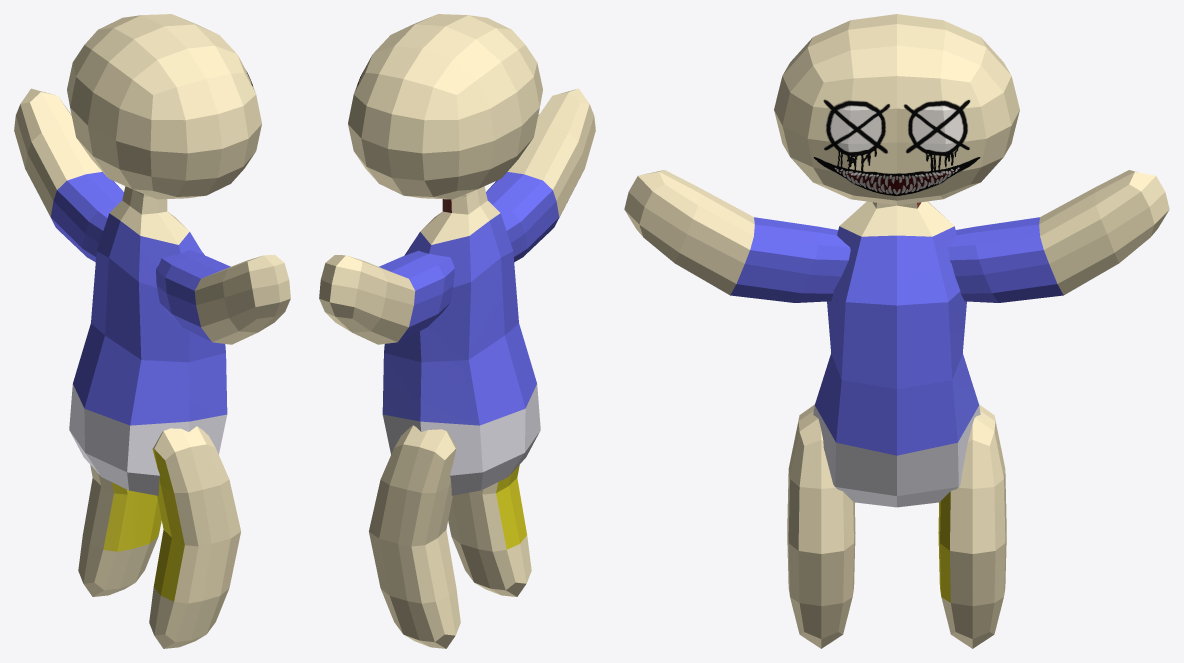
File: babynotfinish.fbx
The picture shows the model from 3 angles, left to right: view 1: azimuth 30°, elevation 25°; view 2: azimuth 150°, elevation 25°; view 3: azimuth 270°, elevation 25°; orthographic projection. The views are drawn at different scales.
Parts seen in each view (by area): view 1: Cube, Cube.001, Cube.002, Cube.004, Cube.005, Cube.003; view 2: Cube, Cube.001, Cube.003, Cube.005, Cube.004, Cube.002; view 3: Cube, Cube.001, Cube.005, Cube.004, Cube.003, Cube.002.
Boxes of the visible parts, box(x1,y1,x2,y2) form: Cube: box(69, 186, 227, 495); Cube.001: box(67, 14, 261, 199); Cube.002: box(149, 426, 240, 648); Cube.004: box(14, 88, 123, 261); Cube.005: box(156, 250, 290, 344); Cube.003: box(78, 464, 161, 596); Cube: box(382, 186, 540, 495); Cube.001: box(348, 14, 542, 199); Cube.003: box(369, 425, 460, 648); Cube.005: box(486, 88, 595, 261); Cube.004: box(319, 250, 454, 344); Cube.002: box(448, 464, 531, 596); Cube: box(813, 201, 980, 507); Cube.001: box(774, 14, 1019, 205); Cube.005: box(624, 170, 850, 302); Cube.004: box(948, 170, 1169, 302); Cube.003: box(938, 404, 1006, 648); Cube.002: box(787, 404, 855, 648).
Size of the model in its own units: 369 by 1423 by 1117.
Materials: 1 (1 with a texture image).
